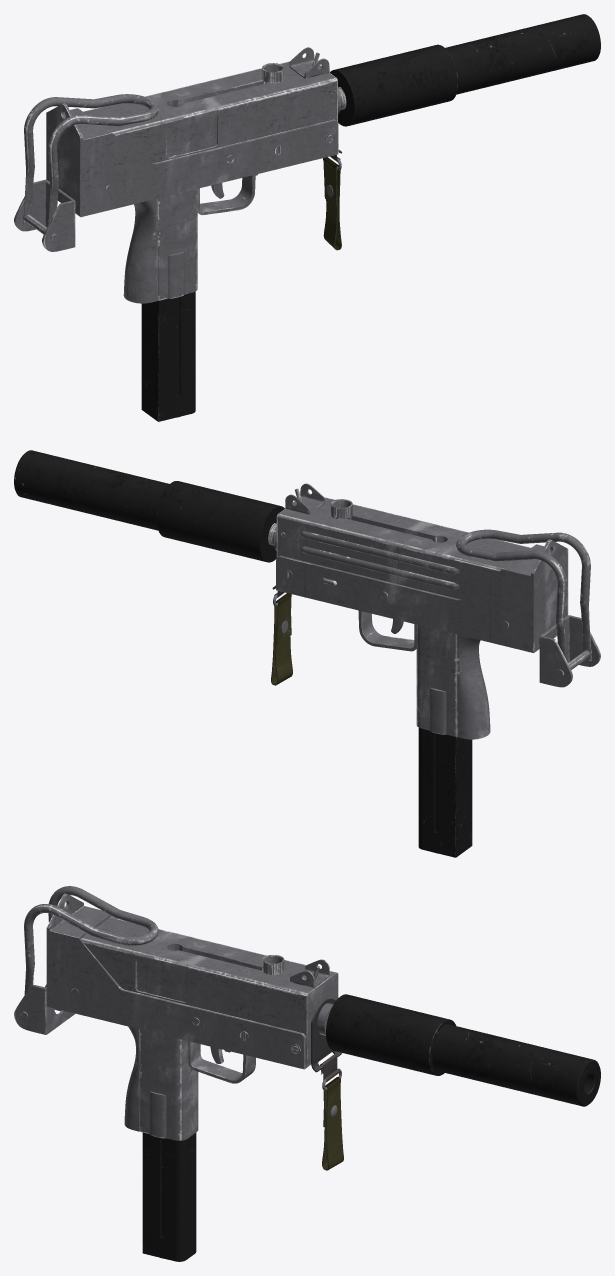
Rendered from MAC10 2021.fbx.
3 renders of one model, top to bottom at view 1: azimuth 30°, elevation 25°; view 2: azimuth 150°, elevation 25°; view 3: azimuth 330°, elevation 25°, orthographic.
Visible parts, largest first — view 1: Cube.002; view 2: Cube.002; view 3: Cube.002.
Boxes of the visible parts, x1,y1,x2,y2 form: Cube.002: [14, 14, 600, 421]; Cube.002: [14, 450, 600, 857]; Cube.002: [14, 886, 600, 1261].
Bounding box in the file's own units: 204 × 116 × 22.88.
